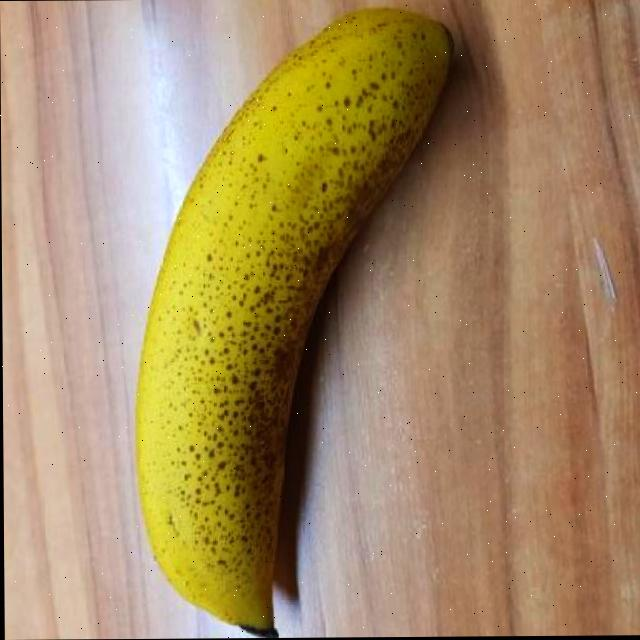banana: (135, 12, 456, 639)
